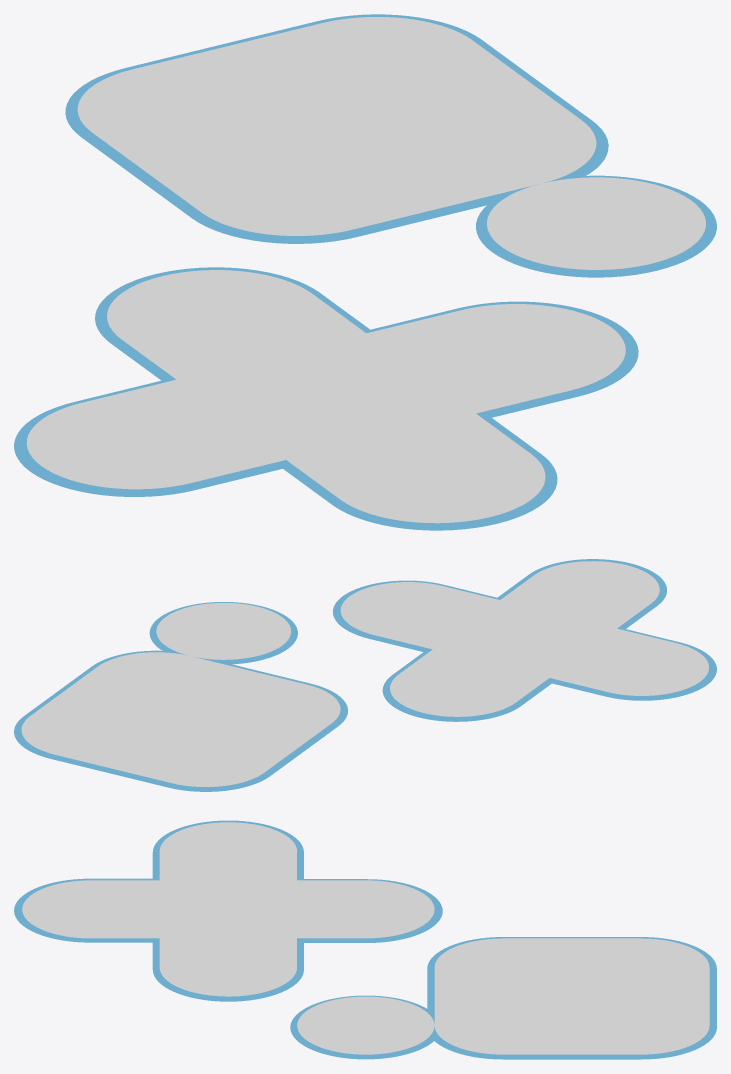
The model's file is clouds.fbx.
The picture shows the model from 3 angles, top to bottom: view 1: azimuth 30°, elevation 25°; view 2: azimuth 150°, elevation 25°; view 3: azimuth 270°, elevation 25°; orthographic projection. The views are drawn at different scales.
Visible parts, largest first — view 1: Corner_TR, Semi_Island_T, Semi_Island_R, Corner_BR, Corner_TL, Semi_Island_L, Corner_BL, Semi_Island_B, Central, Lone; view 2: Corner_BR, Corner_BL, Semi_Island_B, Semi_Island_R, Corner_TR, Semi_Island_L, Semi_Island_T, Central, Corner_TL, Lone; view 3: Corner_BL, Corner_TL, Semi_Island_L, Semi_Island_T, Semi_Island_B, Corner_TR, Central, Corner_BR, Semi_Island_R, Lone.
Part boxes in pixels (<box>): Corner_TR: <box>132,126,460,243</box>; Semi_Island_T: <box>275,412,557,530</box>; Semi_Island_R: <box>14,378,285,496</box>; Corner_BR: <box>65,43,336,181</box>; Corner_TL: <box>337,77,608,215</box>; Semi_Island_L: <box>366,301,638,417</box>; Corner_BL: <box>213,14,541,126</box>; Semi_Island_B: <box>95,267,369,382</box>; Central: <box>177,331,475,468</box>; Lone: <box>476,175,716,277</box>; Corner_BR: <box>106,719,306,791</box>; Corner_BL: <box>14,689,180,773</box>; Semi_Island_B: <box>382,649,556,721</box>; Semi_Island_R: <box>549,628,716,700</box>; Corner_TR: <box>181,668,347,753</box>; Semi_Island_L: <box>332,580,499,651</box>; Semi_Island_T: <box>496,559,666,629</box>; Central: <box>424,600,624,682</box>; Corner_TL: <box>55,650,247,719</box>; Lone: <box>149,602,297,664</box>; Corner_BL: <box>565,995,716,1059</box>; Corner_TL: <box>427,995,578,1059</box>; Semi_Island_L: <box>152,938,303,1001</box>; Semi_Island_T: <box>14,878,159,942</box>; Semi_Island_B: <box>297,879,442,942</box>; Corner_TR: <box>427,937,578,1000</box>; Central: <box>153,879,303,942</box>; Corner_BR: <box>572,937,716,1000</box>; Semi_Island_R: <box>152,820,303,880</box>; Lone: <box>290,995,434,1059</box>.
Size of the model in its own units: 823 by 3 by 1023.
